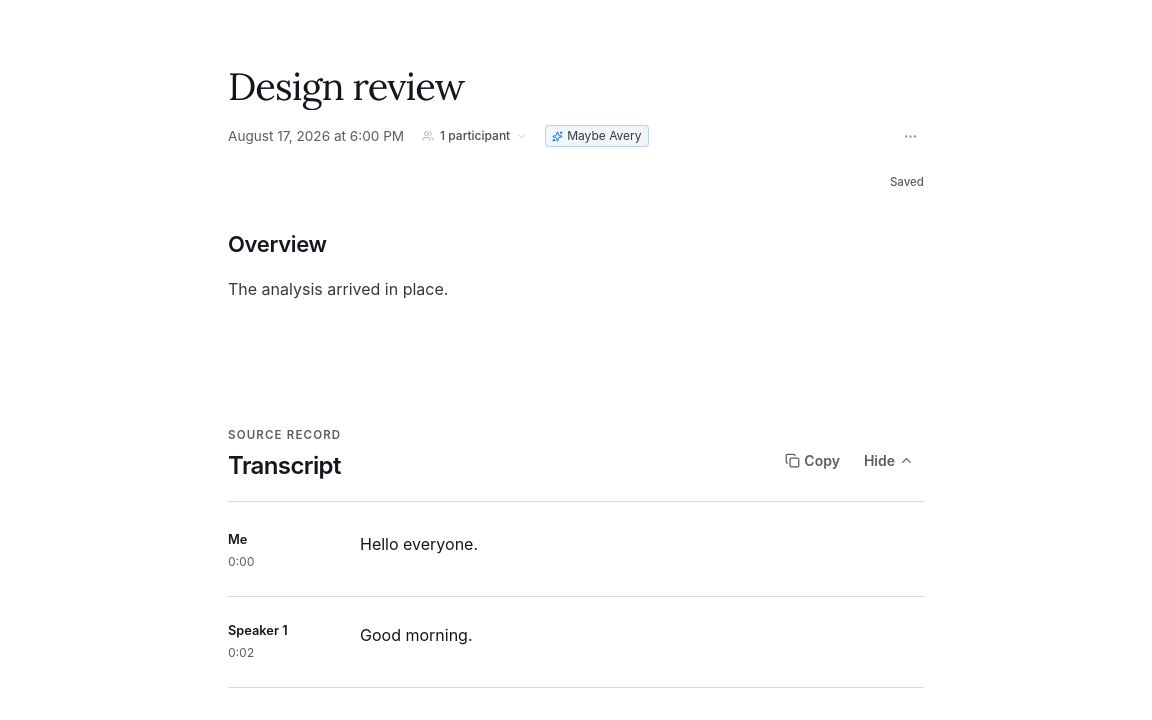
Test: MeetingView progressive reveal › surfaces a tentative voice match in the meeting header and opens that speaker for review
Step 1. Click the button "Maybe Avery" → [597, 136], box [545, 125, 649, 147]
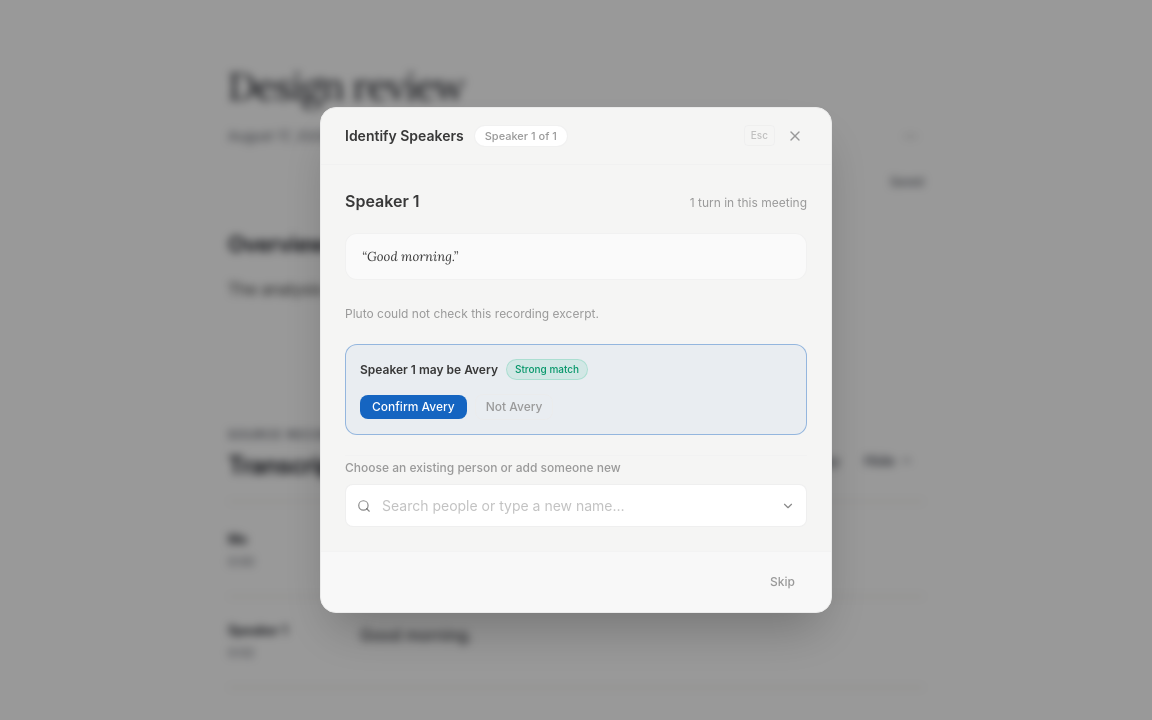
expect the dialog is shown: met
expect the text "Speaker 1 of 1" is shown: met, box [474, 125, 568, 147]
expect the text "Speaker 1 may be Avery" is shown: met, box [360, 362, 498, 378]
